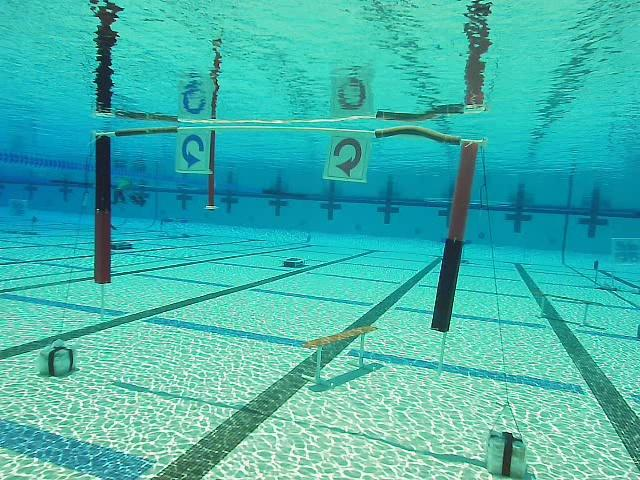dropper: (284, 255, 306, 271), (112, 240, 134, 249)
gate: (94, 125, 482, 339)
gate_blue: (175, 130, 210, 173)
gate_leg_l: (95, 131, 112, 285)
gate_leg_r: (430, 140, 483, 332)
gate_red: (325, 134, 370, 182)
torpedo: (611, 236, 638, 264)
